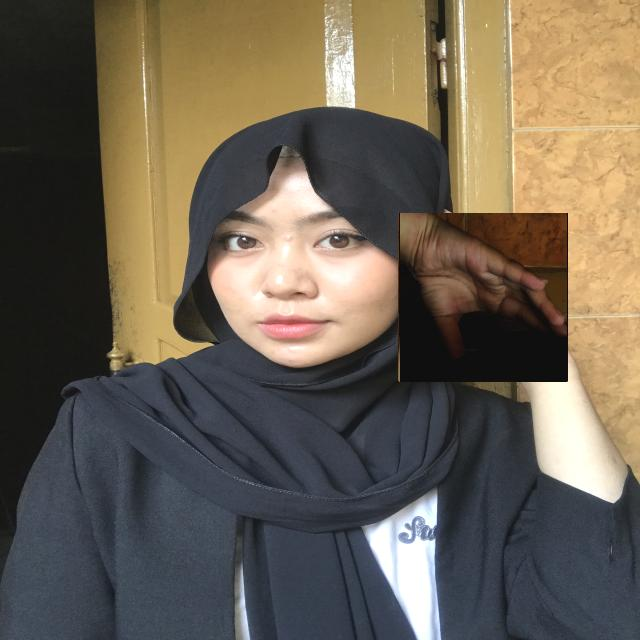mendengar: (398, 213, 568, 382)
